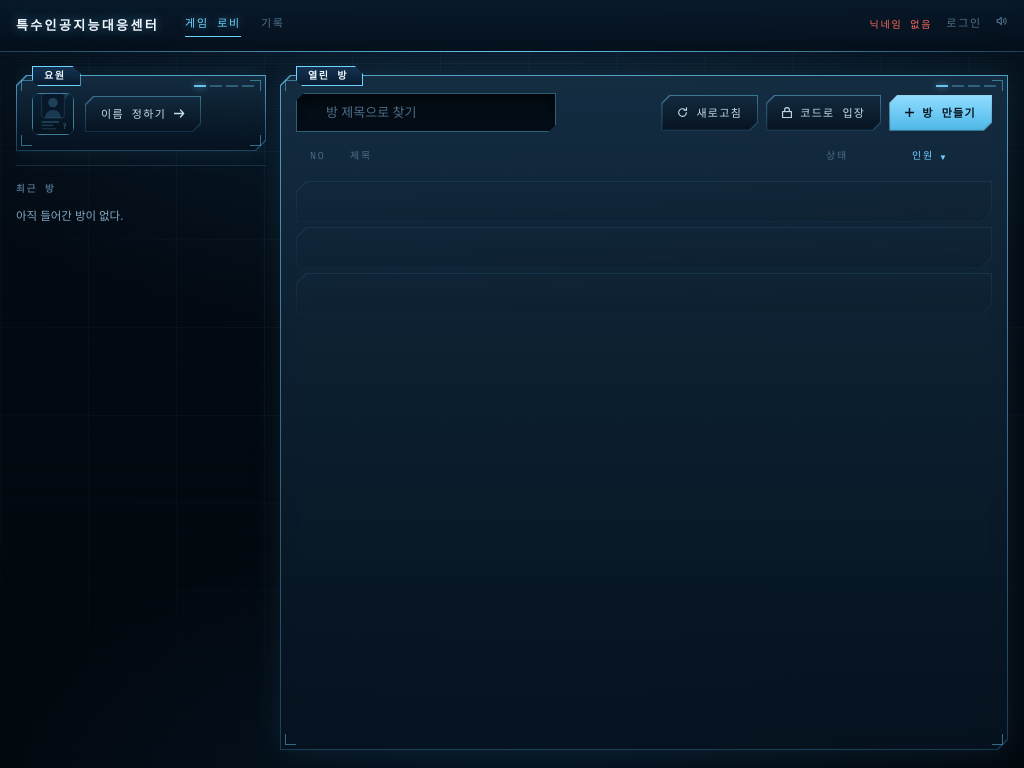
게임 로비 — 목록에서 방으로 › 겹치는 번호는 **팝업 안에서** 거절당한다 — 방금 친 제목이 사라지면 안 된다
The width and height of the screenshot is (1024, 768).
Click the button "이름 정하기": (143, 114) [85, 96, 201, 132]
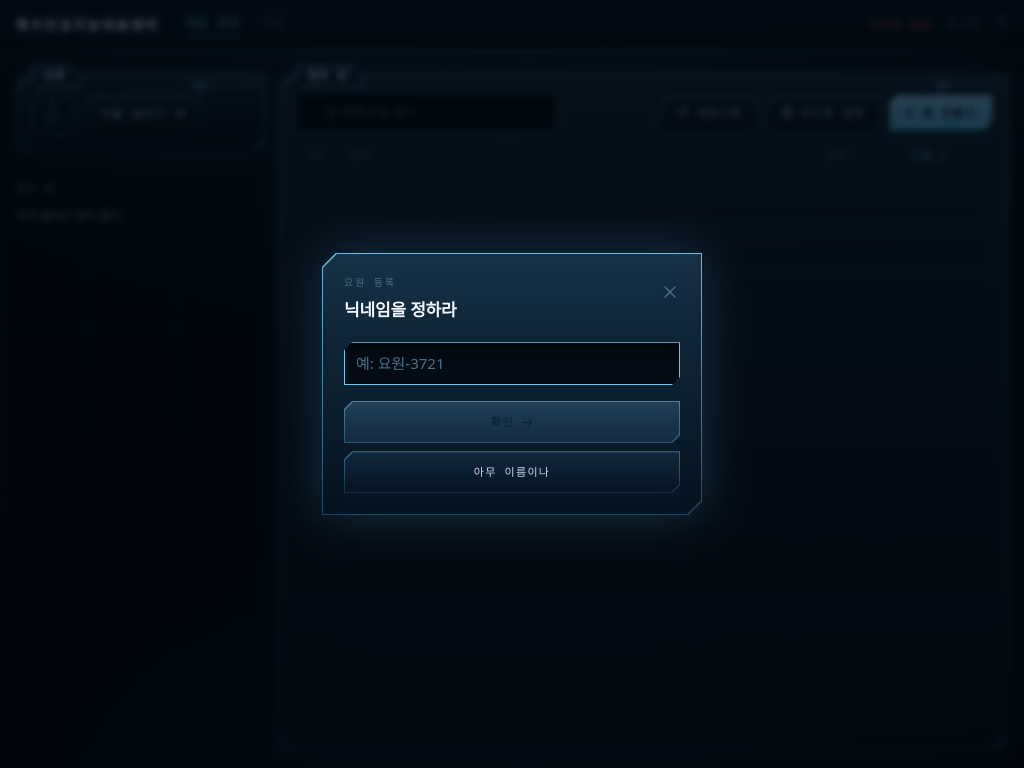
In the field named "닉네임": (512, 364) [344, 342, 680, 385], type "요원-03"
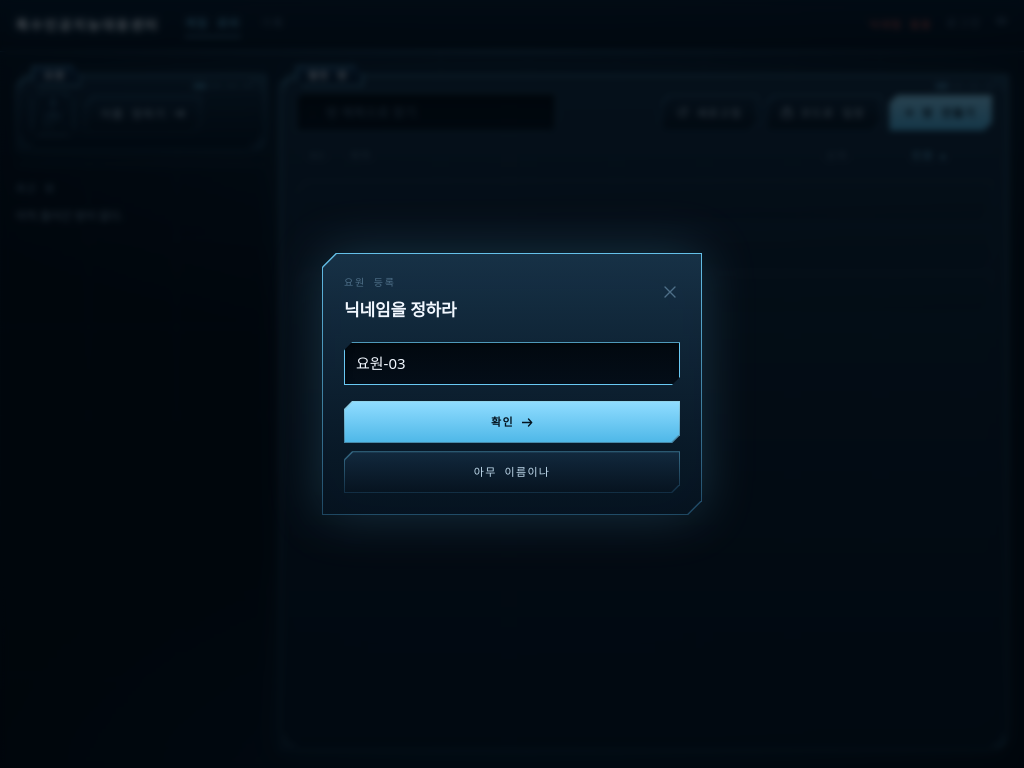
Click the button "확인": (512, 422) [344, 401, 680, 443]
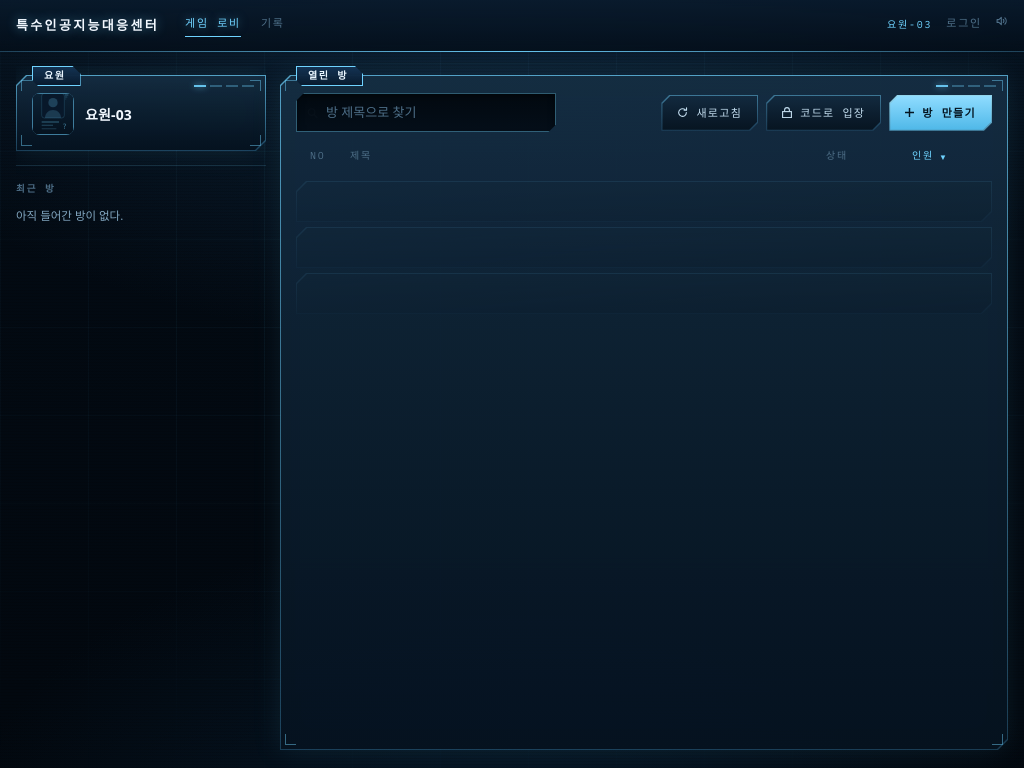
Click the button "방 만들기": (941, 113) [889, 95, 992, 131]
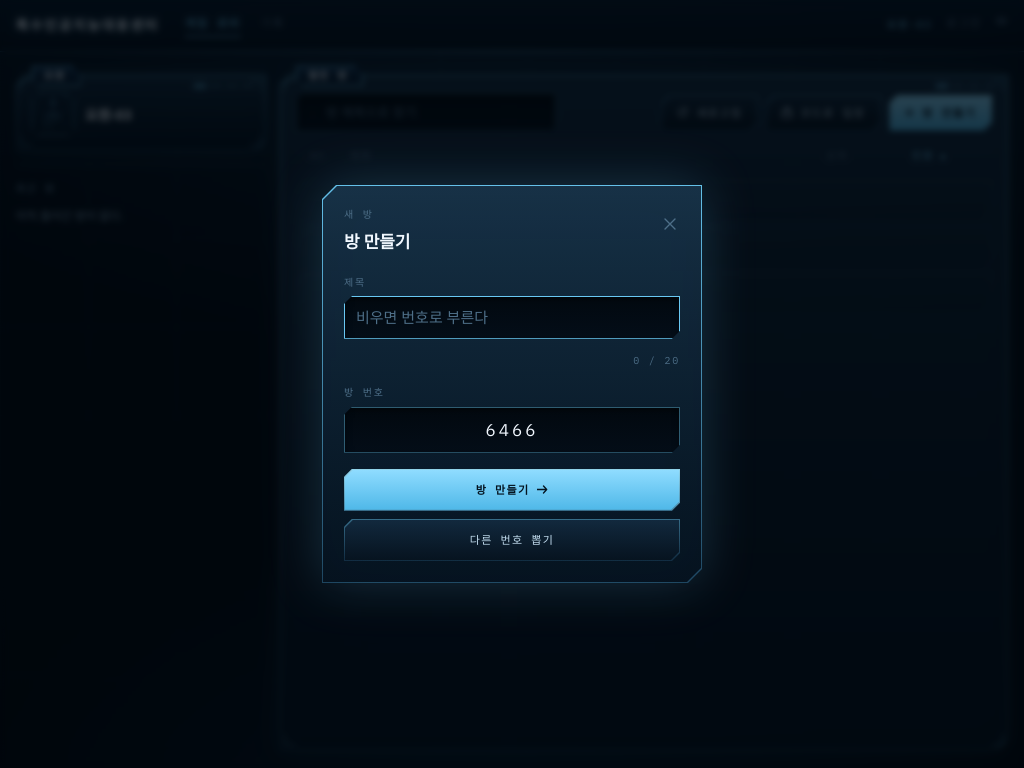
In the field named "방 제목": (512, 317) [344, 296, 680, 339], type "내 방"
Replace the text in the field named "방 번호" with "1024": (512, 430) [344, 407, 680, 453]
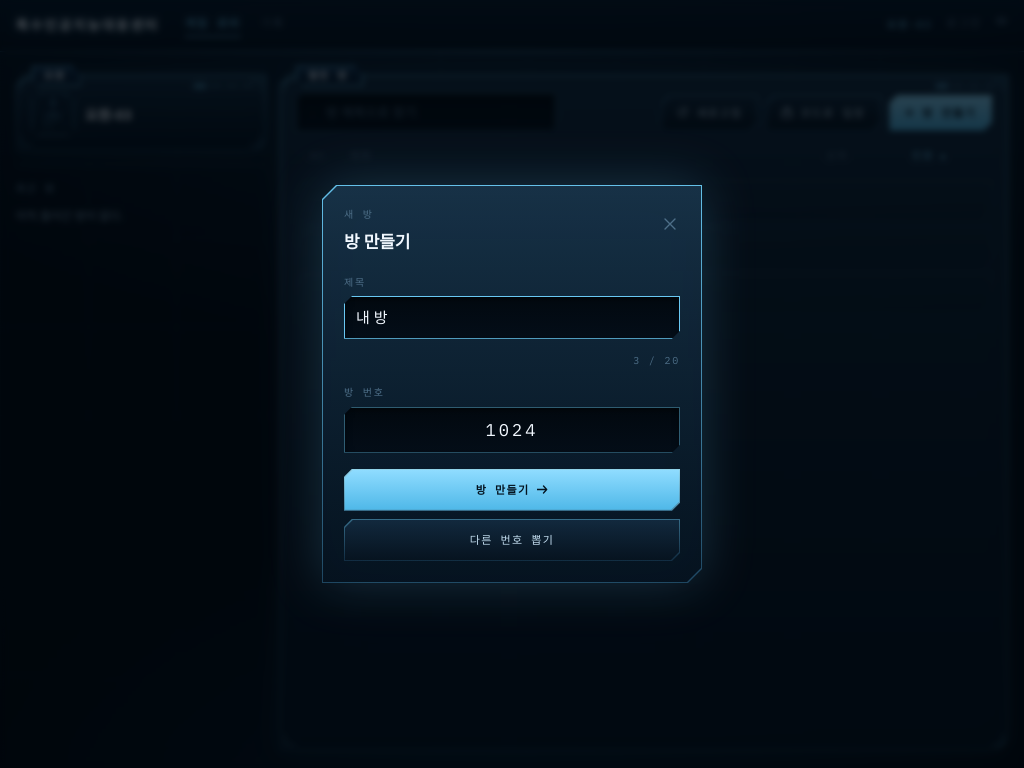
Click the button "방 만들기": (512, 490) [344, 469, 680, 511]
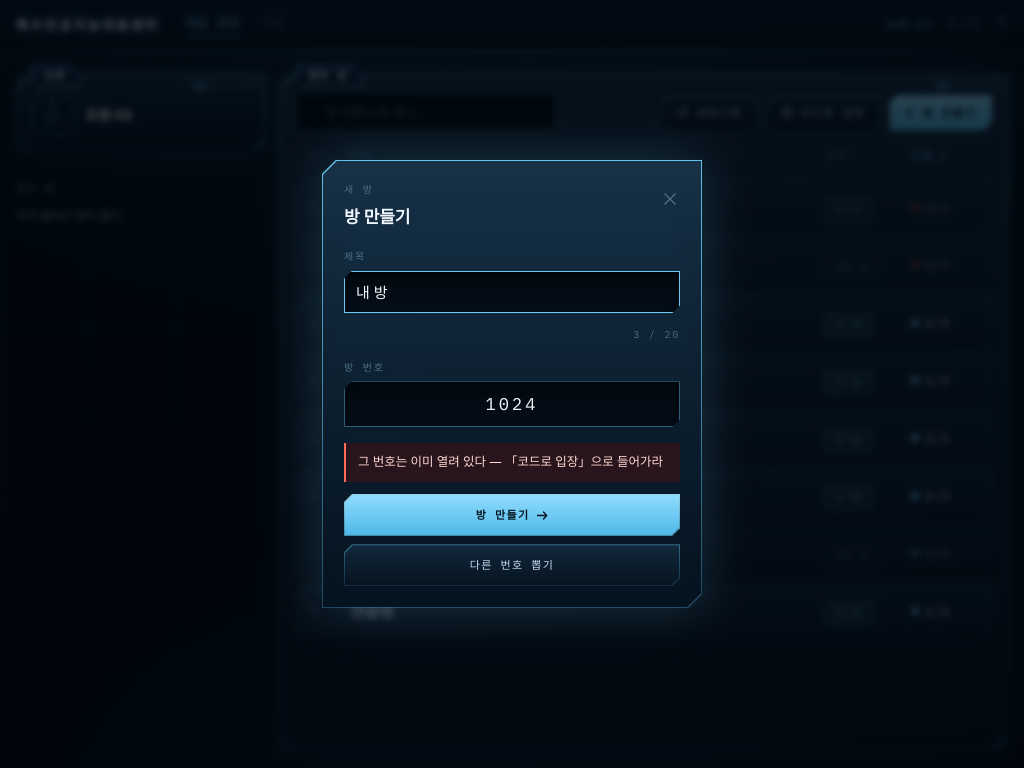
Now the message shows "이미 열려 있다", box [358, 453, 663, 470]
